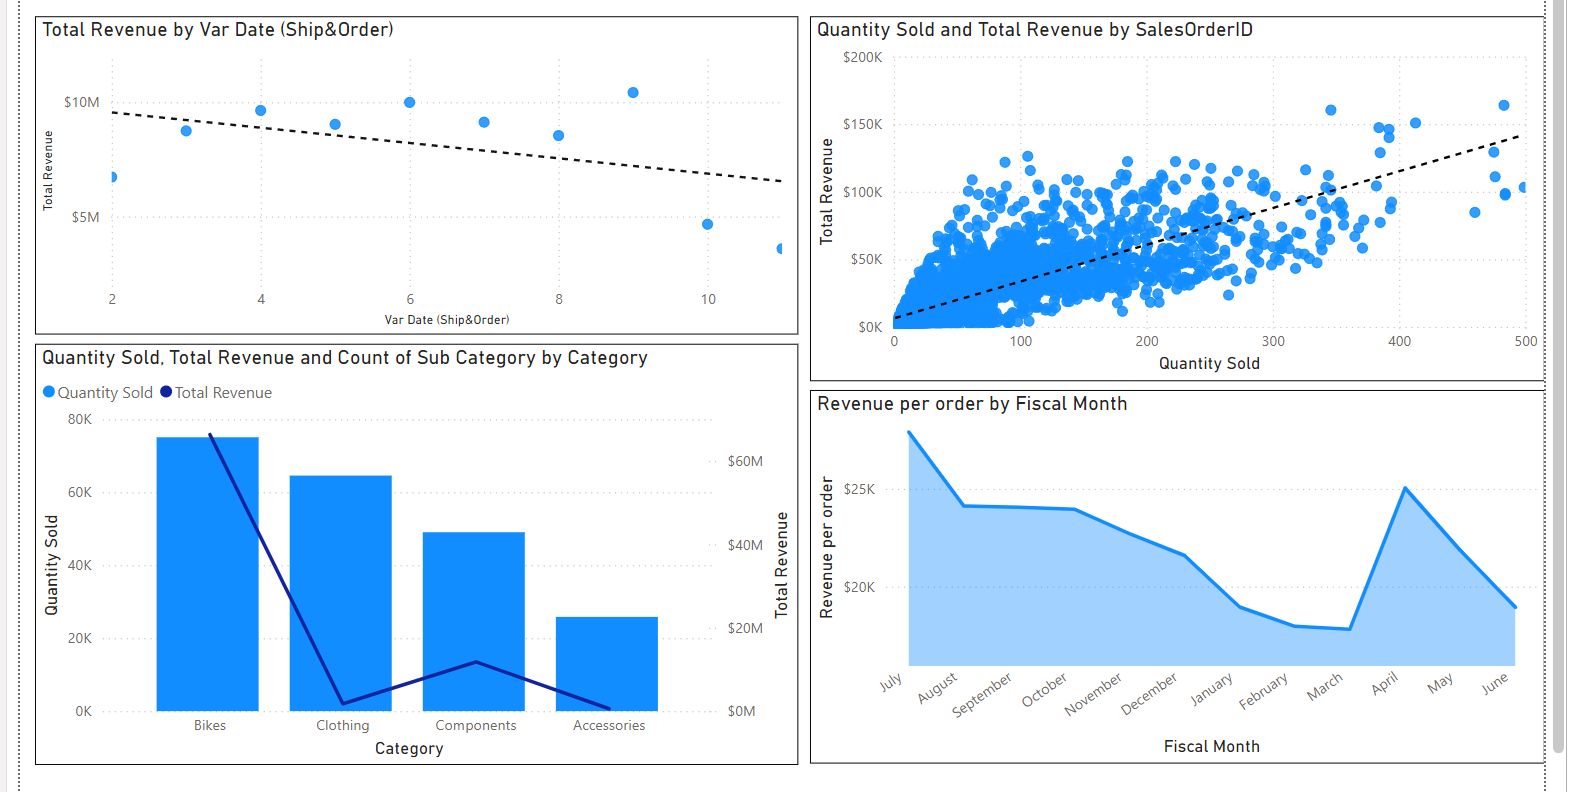

What the dashboard file says about the page in this screenshot:
{"tool":"powerbi","page":{"name":"Performance Relations","canvas":[1280,720],"ordinal":2},"visuals":[{"type":"scatterChart","fields":{"X":["Orders.Var Date"],"Y":["Order_Items.Total Revenue"]},"box":[12.8,18.1,640.5,266.9],"z":0},{"type":"lineClusteredColumnComboChart","fields":{"Category":["Products.Category"],"Y":["Order_Items.Quantity Sold"],"Y2":["Order_Items.Total Revenue"]},"box":[12.8,292.5,640.5,353.4],"z":1000},{"type":"scatterChart","fields":{"Y":["Order_Items.Total Revenue"],"Category":["Orders.SalesOrderID"],"X":["Order_Items.Quantity Sold"]},"box":[663,18,617,306],"z":2000},{"type":"stackedAreaChart","fields":{"Category":["Calendar table.Fiscal Month"],"Y":["Order_Items.Revenue per order"]},"box":[663,332,617,313.9],"z":3000}]}

Visuals, with their boxes on the page's 1280x720 design canvas (x1, y1, x2, y2). These are canvas units, not pixel positions in the 1571x792 screenshot, which may show the page scaled, cropped or inside an application window:
scatterChart - Orders.Var Date x Order_Items.Total Revenue: bbox(13, 18, 653, 285)
lineClusteredColumnComboChart - Products.Category x Order_Items.Quantity Sold: bbox(13, 292, 653, 646)
scatterChart - Order_Items.Total Revenue x Orders.SalesOrderID: bbox(663, 18, 1280, 324)
stackedAreaChart - Calendar table.Fiscal Month x Order_Items.Revenue per order: bbox(663, 332, 1280, 646)
